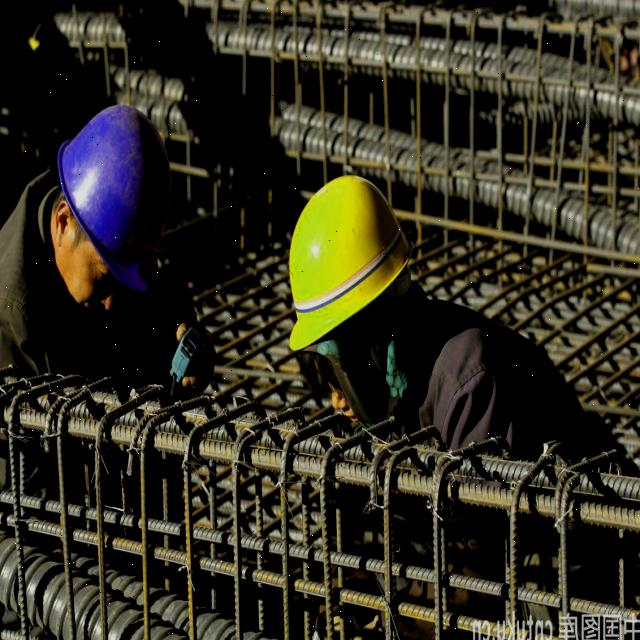Hardhat: (57, 105, 170, 293), (289, 177, 411, 351)
